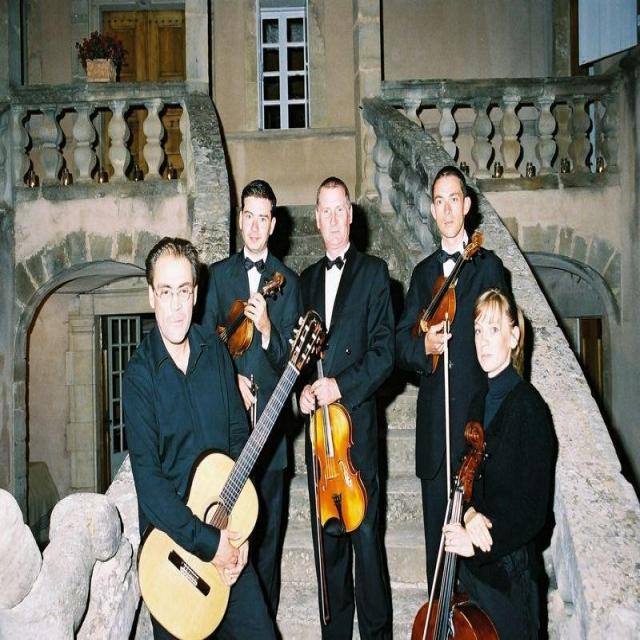cello: (411, 422, 496, 640)
guitar: (135, 306, 325, 640)
violin: (307, 340, 373, 536), (410, 229, 486, 370), (215, 271, 286, 363)
